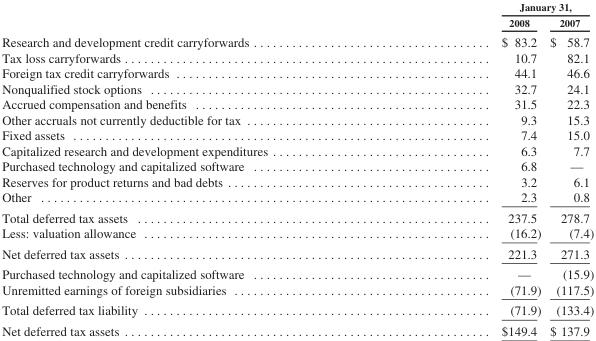table: (1, 0, 593, 337)
table column: (1, 0, 383, 337), (383, 0, 544, 337), (544, 0, 593, 337)
table column header: (1, 0, 593, 31)
table row: (1, 299, 593, 320), (1, 243, 593, 263), (1, 224, 593, 243), (1, 31, 593, 49), (1, 188, 593, 206), (1, 206, 593, 224), (1, 263, 593, 281), (1, 281, 593, 299), (1, 14, 593, 31), (1, 320, 593, 337), (1, 49, 593, 65), (1, 80, 593, 96), (1, 111, 593, 127), (1, 157, 593, 173), (1, 65, 593, 80), (1, 96, 593, 111), (1, 127, 593, 142), (1, 142, 593, 157), (1, 173, 593, 188), (1, 0, 593, 14)
table spanning cell: (383, 0, 593, 14)
